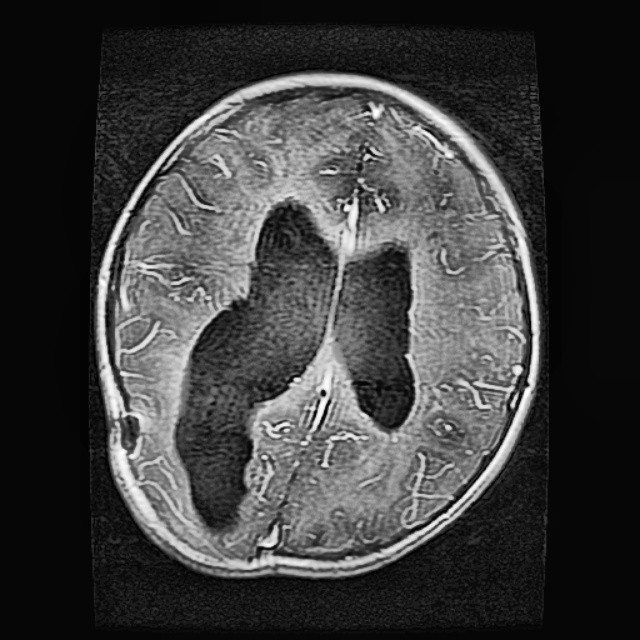Glioma: (172, 294, 308, 527)
